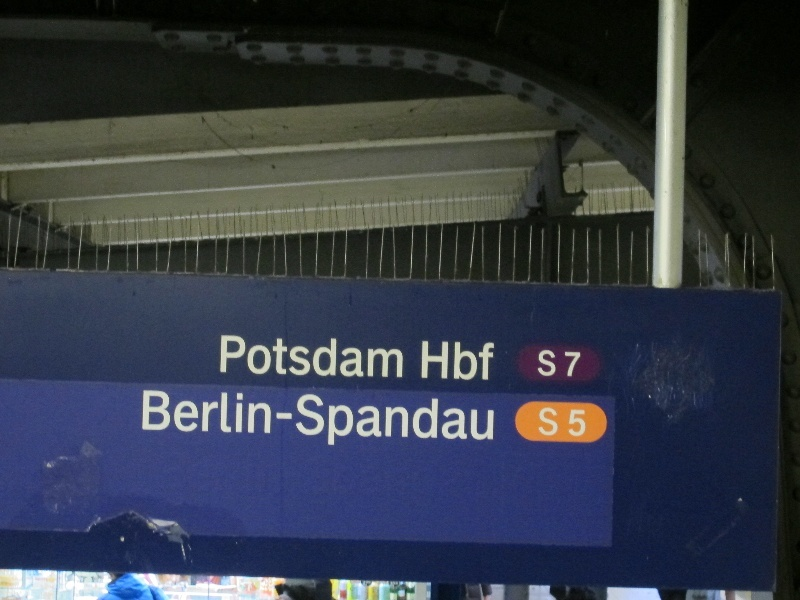text: (145, 390, 160, 449), (161, 390, 176, 449), (177, 390, 192, 449), (193, 390, 208, 449), (209, 390, 224, 449), (225, 390, 240, 449), (241, 390, 256, 449), (257, 390, 272, 449), (273, 390, 288, 449), (289, 390, 304, 449), (305, 390, 320, 449), (321, 390, 336, 449), (337, 390, 352, 449), (353, 390, 368, 449), (369, 390, 384, 449), (385, 390, 400, 449), (401, 390, 416, 449), (417, 390, 432, 449), (433, 390, 448, 449), (449, 390, 464, 449), (465, 390, 480, 449), (481, 390, 495, 449), (225, 334, 240, 380), (241, 334, 256, 380), (257, 334, 272, 380), (273, 334, 288, 380), (289, 334, 304, 380), (305, 334, 320, 380), (321, 334, 336, 380), (337, 334, 352, 380), (353, 334, 368, 380), (369, 334, 384, 380), (385, 334, 400, 380), (433, 341, 448, 382), (449, 341, 464, 382), (465, 341, 480, 382), (481, 341, 495, 382), (421, 341, 432, 382), (545, 407, 559, 438), (545, 349, 558, 379), (577, 410, 588, 440), (565, 351, 576, 380), (568, 410, 576, 440), (538, 407, 544, 438), (538, 349, 544, 379), (577, 351, 583, 380), (401, 334, 404, 380), (222, 334, 224, 380), (143, 390, 144, 449)
